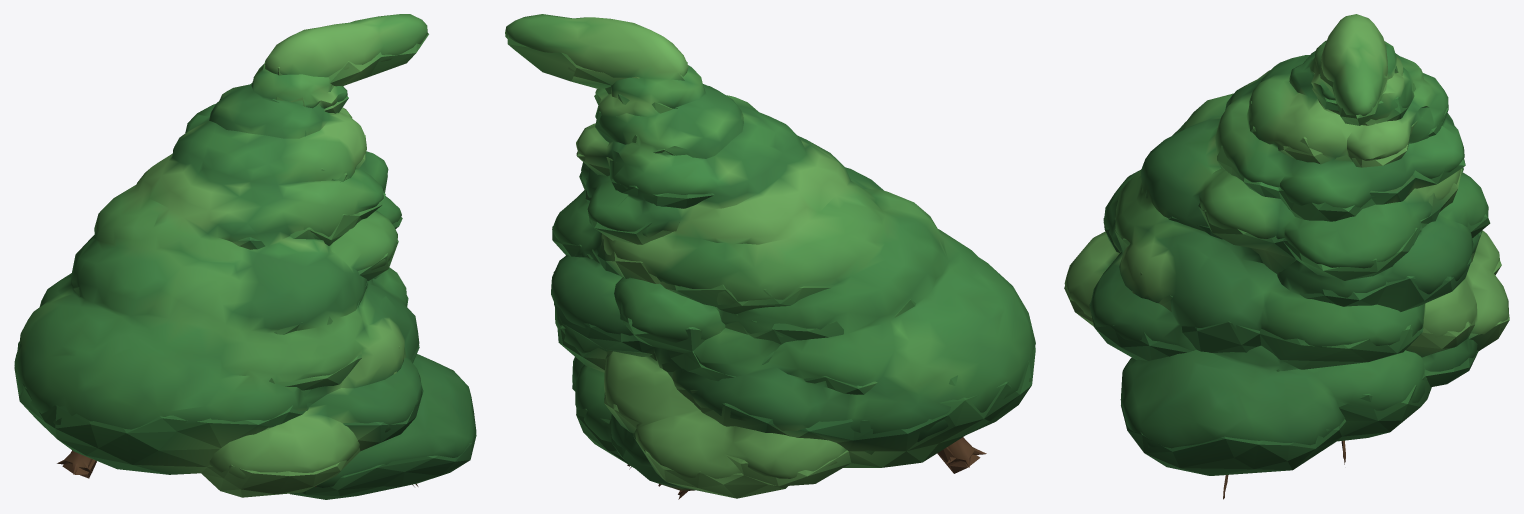
Rendered from pine_windswept.glb.
3 renders of one model, left to right at view 1: azimuth 30°, elevation 25°; view 2: azimuth 150°, elevation 25°; view 3: azimuth 270°, elevation 25°, orthographic. The views are drawn at different scales.
Parts seen in each view (by area): view 1: pine_windswept_LOD1, pine_windswept_LOD2; view 2: pine_windswept_LOD1, pine_windswept_LOD2; view 3: pine_windswept_LOD1, pine_windswept_LOD2.
Part boxes in pixels (x1,y1,x2,y2): pine_windswept_LOD1: (14, 14, 476, 487); pine_windswept_LOD2: (14, 33, 476, 499); pine_windswept_LOD1: (505, 14, 1035, 495); pine_windswept_LOD2: (507, 30, 1035, 499); pine_windswept_LOD1: (1064, 14, 1509, 499); pine_windswept_LOD2: (1064, 58, 1509, 475).
Size of the model in its own units: 8 by 7.55 by 6.69.
